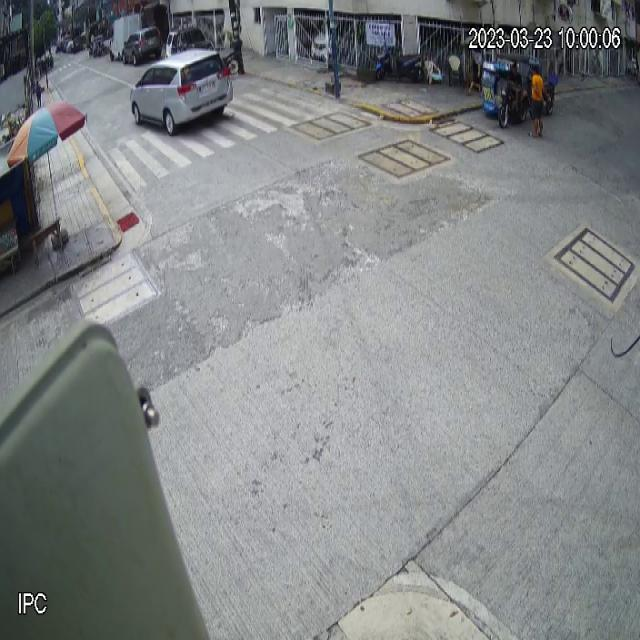Car: (130, 45, 233, 136)
Tricycle: (481, 52, 531, 132)
